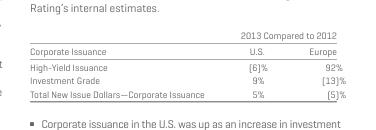table: (29, 29, 345, 98)
table column: (29, 29, 221, 98), (221, 29, 287, 98), (287, 29, 345, 98)
table column header: (29, 29, 345, 58)
table row: (29, 42, 345, 58), (29, 58, 345, 73), (29, 29, 345, 42), (29, 73, 345, 86), (29, 86, 345, 98)
table spanning cell: (29, 29, 221, 58), (221, 29, 345, 42)
